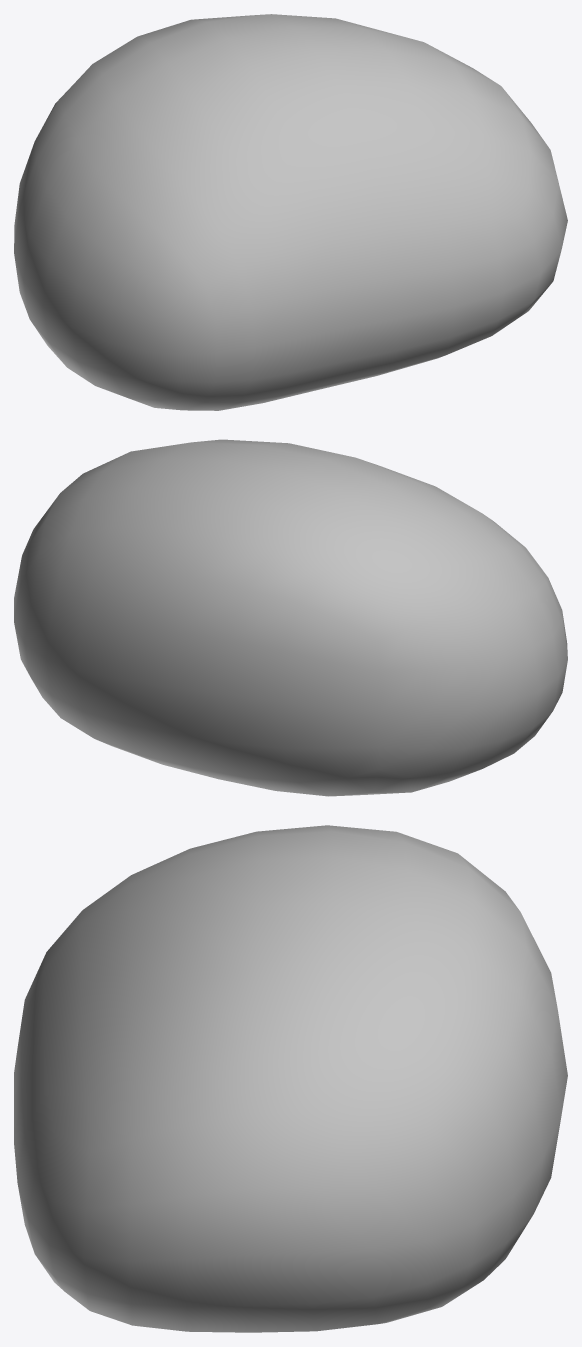
File: Town_4_Stone_1.glb
3 views of the same model, one above another, from view 1: azimuth 30°, elevation 25°; view 2: azimuth 150°, elevation 25°; view 3: azimuth 270°, elevation 25° (orthographic). The views are drawn at different scales.
Visible parts, largest first — view 1: Town_4_Stone_1; view 2: Town_4_Stone_1; view 3: Town_4_Stone_1.
Boxes of the visible parts, x1=… form: Town_4_Stone_1: x1=14, y1=14, x2=567, y2=410; Town_4_Stone_1: x1=14, y1=439, x2=567, y2=796; Town_4_Stone_1: x1=14, y1=825, x2=567, y2=1332.
Size of the model in its own units: 1.76 by 0.9727 by 1.32.
1 material, 1 textured.
